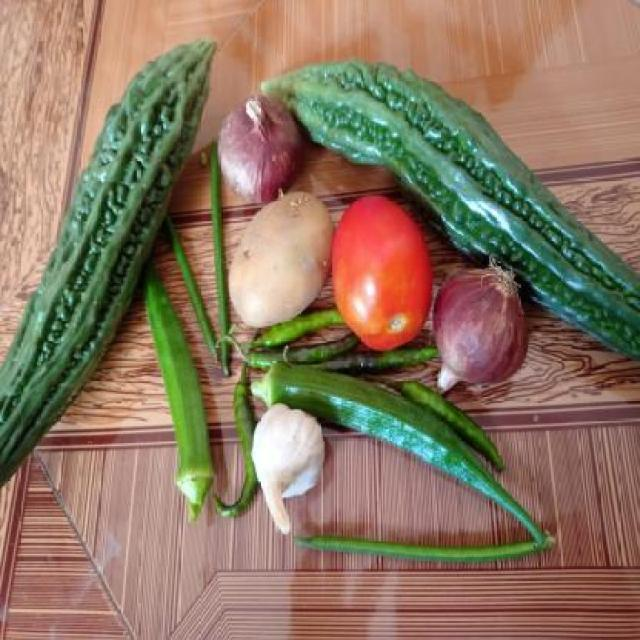Bitter melon: (60, 48, 185, 346), (304, 64, 544, 198)
Garlic: (252, 410, 328, 532)
Lady finger: (144, 282, 212, 516), (258, 355, 438, 420)
Onion: (436, 266, 532, 397), (216, 100, 302, 202)
Potato: (229, 190, 334, 324)
Tomato: (331, 194, 434, 351)
